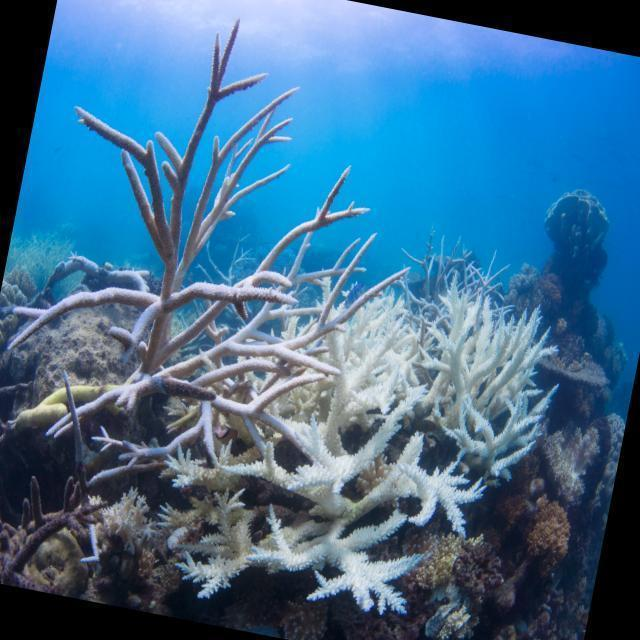Bleached Coral: (10, 0, 373, 465), (175, 232, 546, 626)
Dead Coral: (0, 451, 105, 596)
